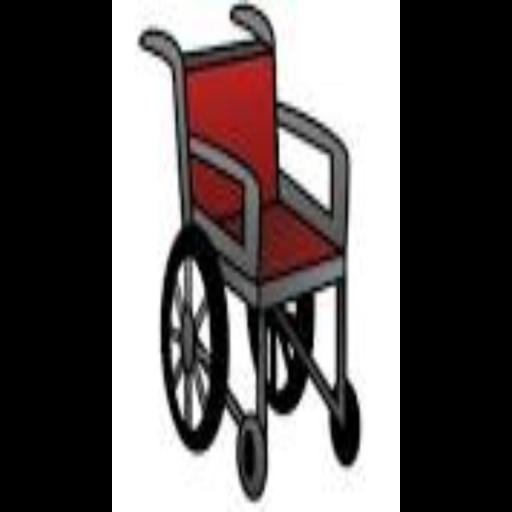cadeira_de_rodas: (137, 5, 368, 512)
